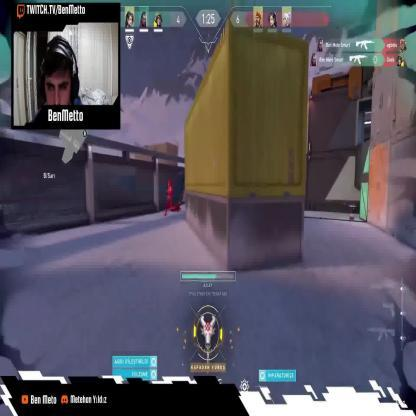enemy: (163, 179, 181, 216)
enemy_head: (168, 178, 172, 186)
